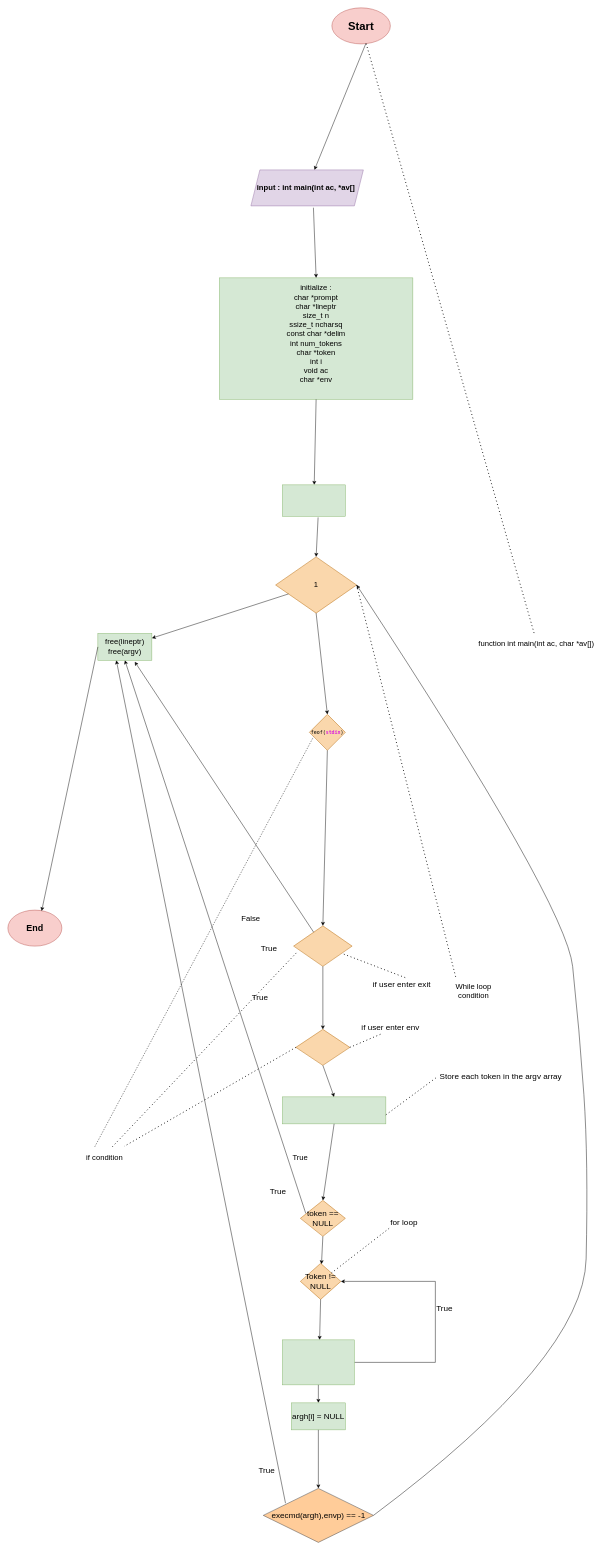
The diagram is 614 pixels wide and 1550 high, and some of its shapes have lost their labels. The centre of each missing label's shape, as x and y in pixels:
argv = calloc(sizeof(char *), 1024): (x=313, y=500)
argv[i] = NULL; argv[i] = token token = strtok(NULL, delim: (x=318, y=1362)
strcmp( "env \n " , lineptr) == 0: (x=322, y=1047)
strcmp( "exit \n " , lineptr) == 0: (x=322, y=945)
token = strtok(lineptr,delim): (x=334, y=1110)
